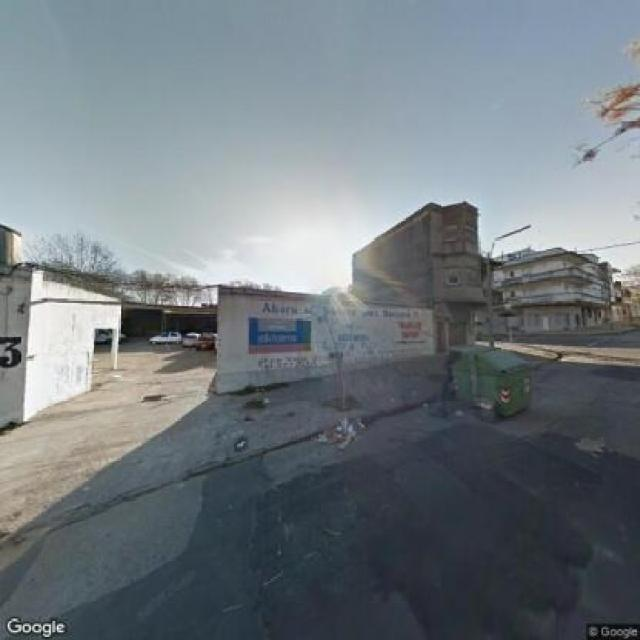garbage: (426, 394, 504, 426), (317, 413, 372, 452)
